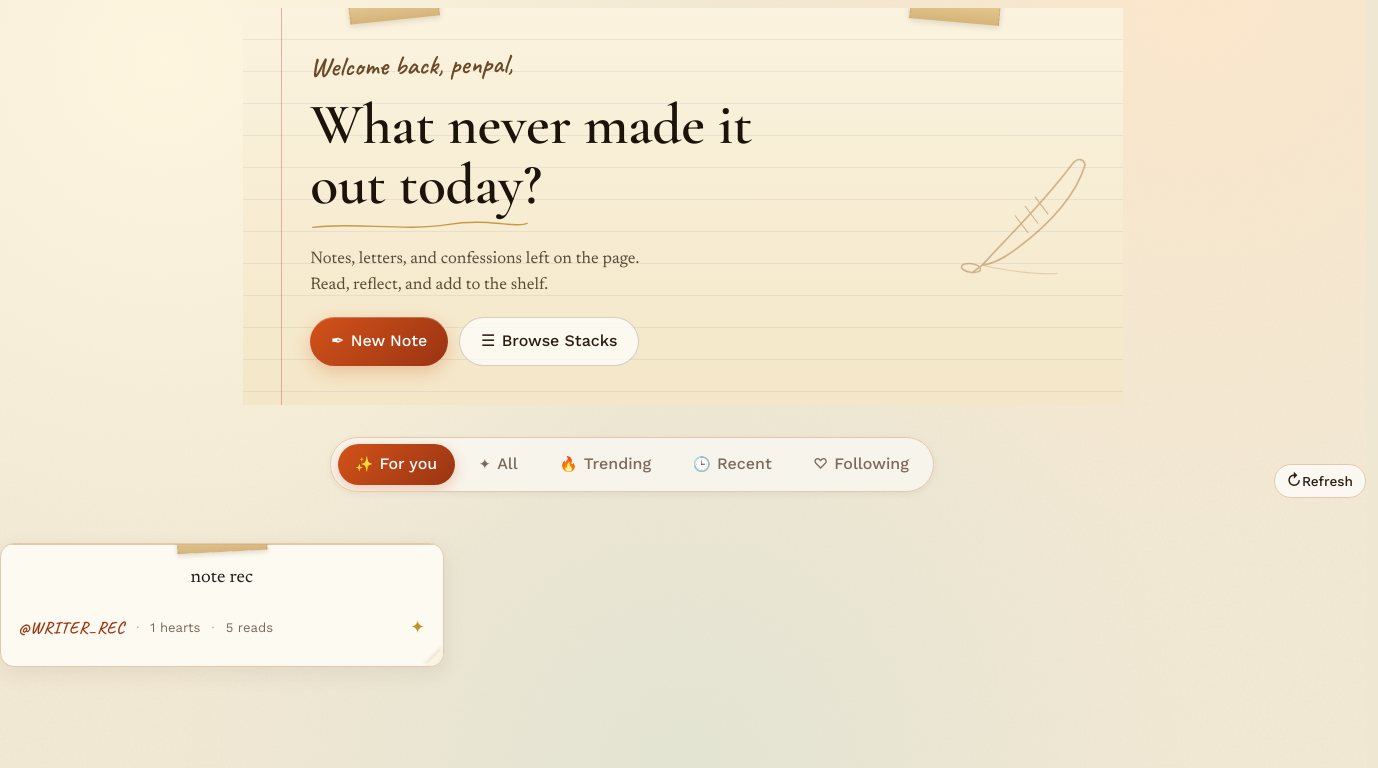
HomePage › signed in › hides Refresh on any filter other than For you
Expected: the text "note rec" is shown, left=190, top=568, right=253, bottom=587
What coordinates should you click on to do the following:
click the button "♡ Following"
I would click on:
 (861, 464)
Its box is left=796, top=444, right=926, bottom=485.
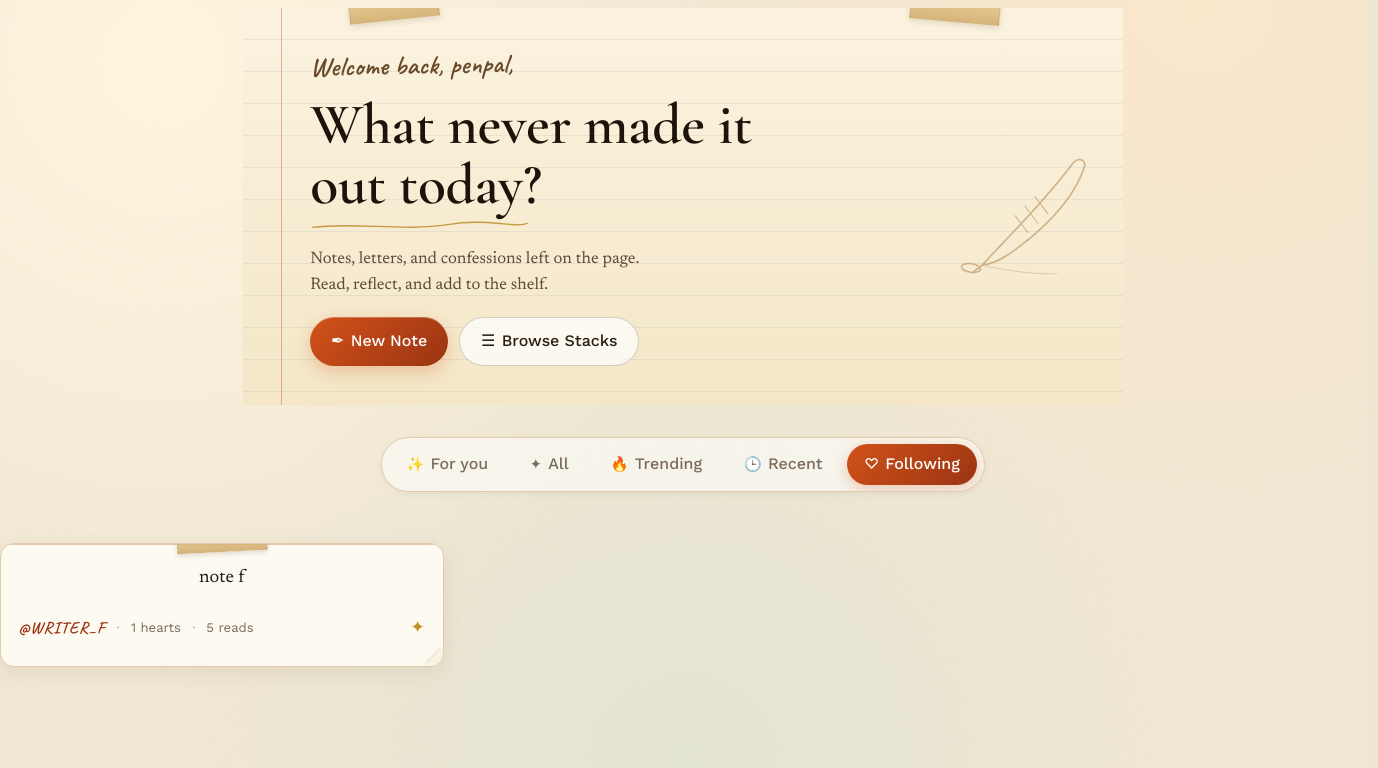
Expected: the text "note f" is shown, left=199, top=568, right=244, bottom=587
Expected: the button "Refresh" is gone
